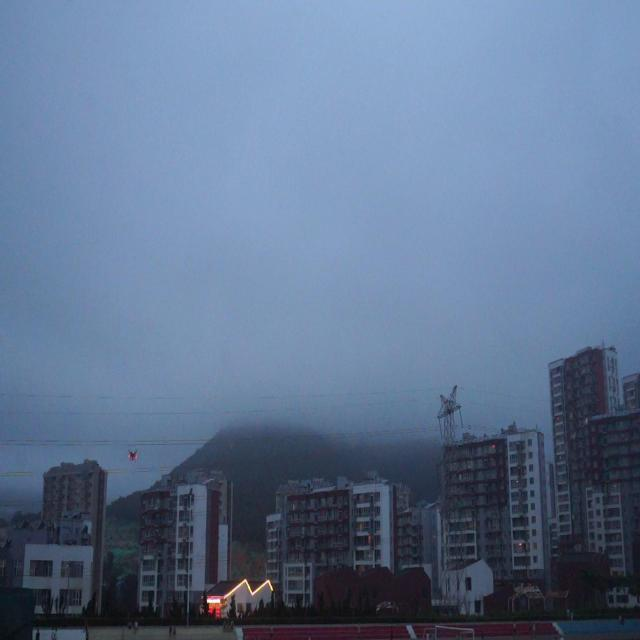drone: (125, 446, 143, 464)
